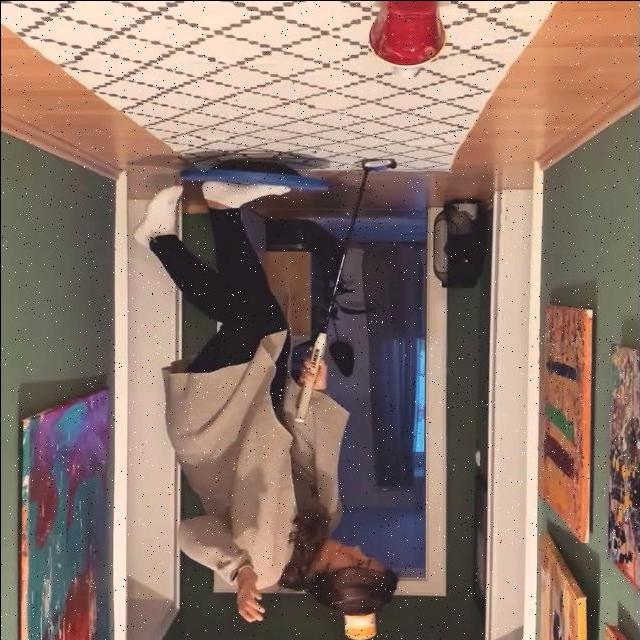golf ball: (394, 66, 417, 77)
golf club-handle: (293, 157, 396, 422)
golf club-head: (359, 157, 396, 170)
